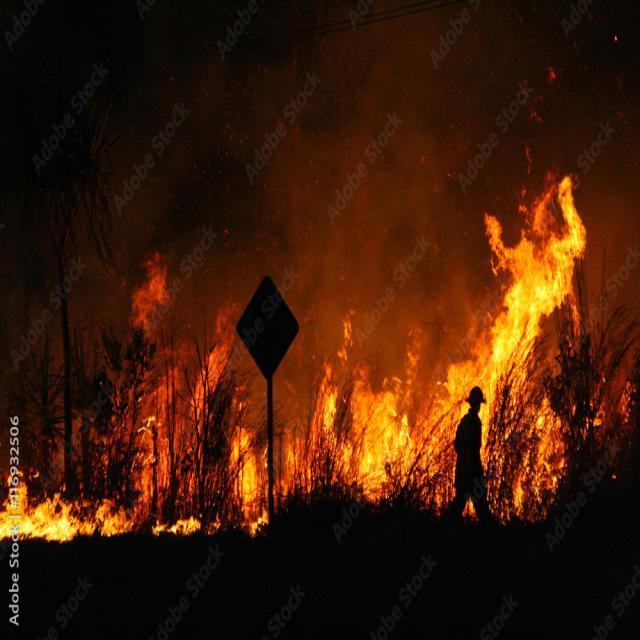Fire: (276, 133, 640, 524), (0, 236, 265, 544)
